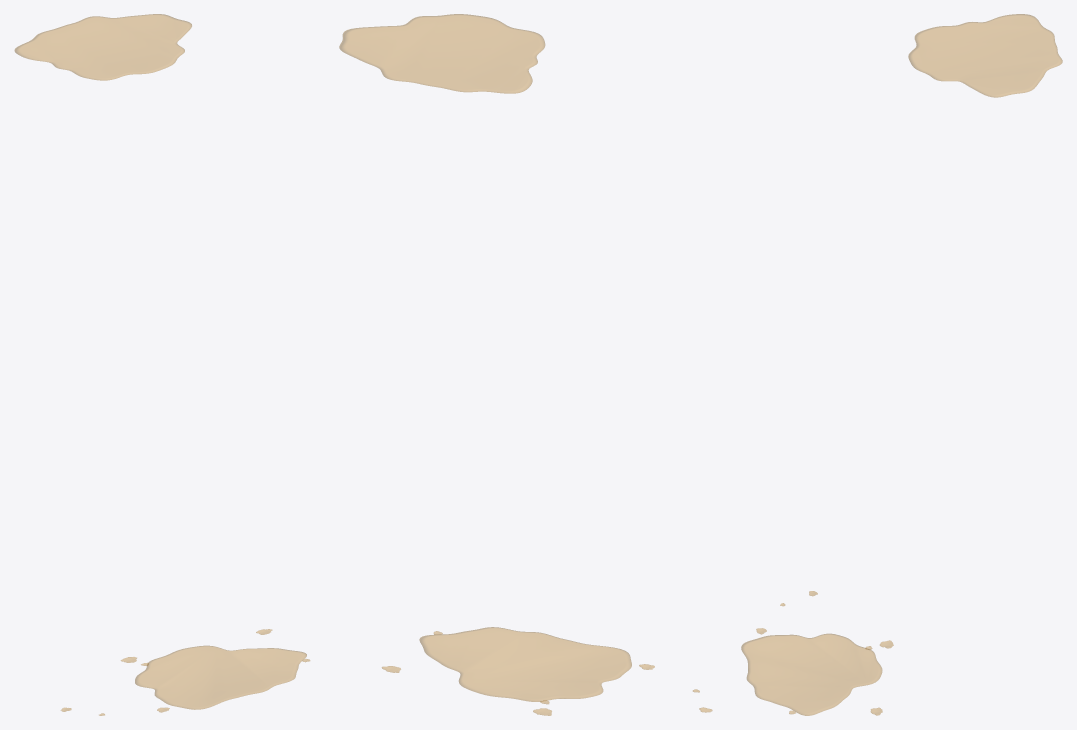
File: poca_bebida.glb
3 views of the same model, side by side, from view 1: azimuth 30°, elevation 25°; view 2: azimuth 150°, elevation 25°; view 3: azimuth 270°, elevation 25° (orthographic). The views are drawn at different scales.
Parts seen in each view (by area): view 1: Poca sobre a mesa, Poca principal no piso; view 2: Poca sobre a mesa, Poca principal no piso; view 3: Poca sobre a mesa, Poca principal no piso.
Boxes of the visible parts, box(x1,y1,x2,y2) form: Poca sobre a mesa: box(14, 14, 191, 80); Poca principal no piso: box(135, 645, 306, 709); Poca sobre a mesa: box(339, 14, 545, 93); Poca principal no piso: box(419, 627, 631, 701); Poca sobre a mesa: box(908, 14, 1062, 97); Poca principal no piso: box(741, 633, 882, 715).
Size of the model in its own units: 0.3438 by 0.776 by 0.3735.
